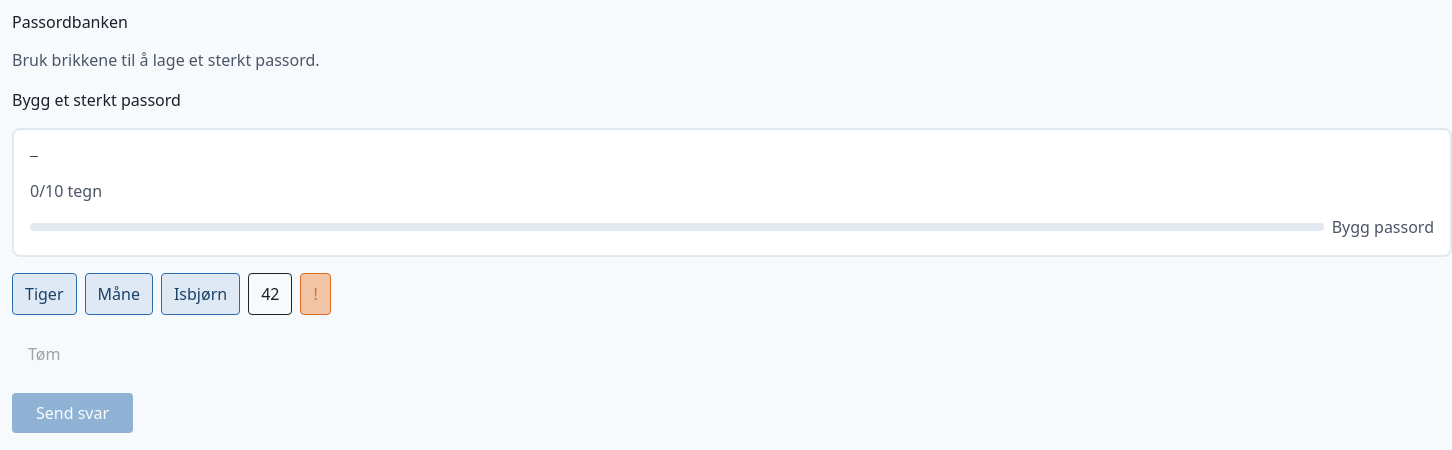
Test: PasswordTask › blocks builder tiles that would exceed max length
Click the button with class "tile--word" showing "Tiger" at (44, 294), box [12,273,76,315]
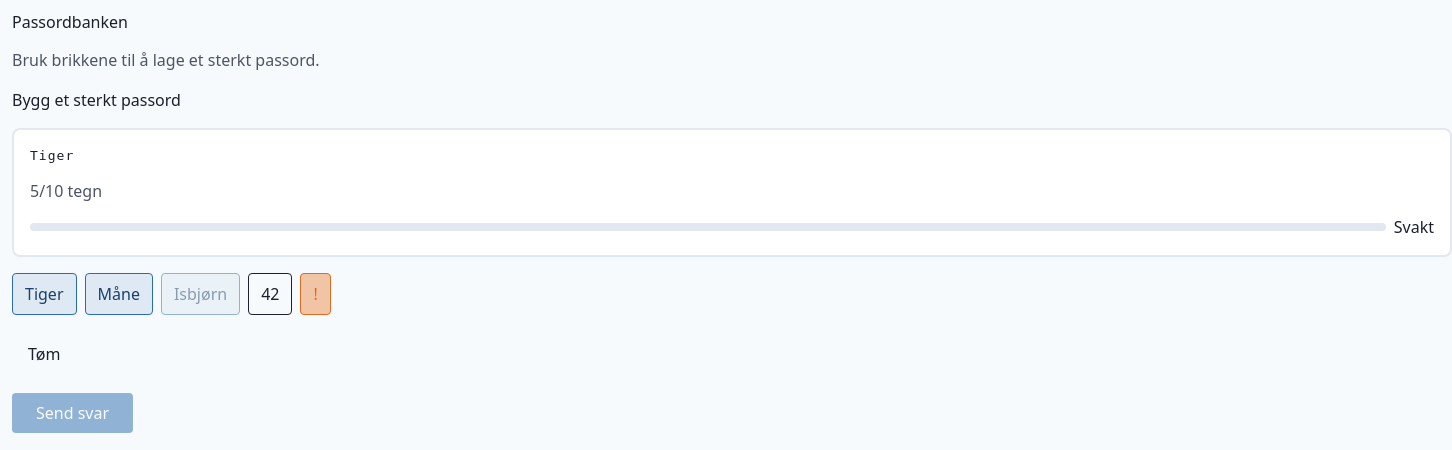
Click the button with class "tile--word" showing "Måne" at (119, 294), box [84,273,153,315]
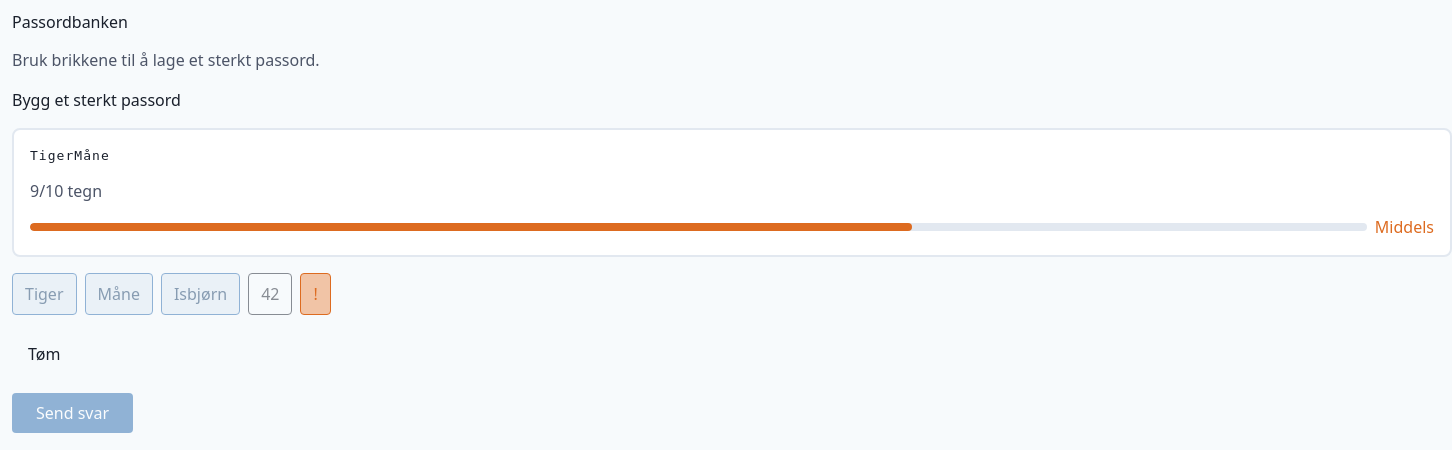
Result: the button with class "tile--word" showing "Isbjørn" is disabled at [161,273,240,315]
Result: the text with class "builder__password" reads "TigerMåne" at [30,148,110,163]
Result: the text with class "builder__limit" reads "9/10 tegn" at [30,180,102,202]
